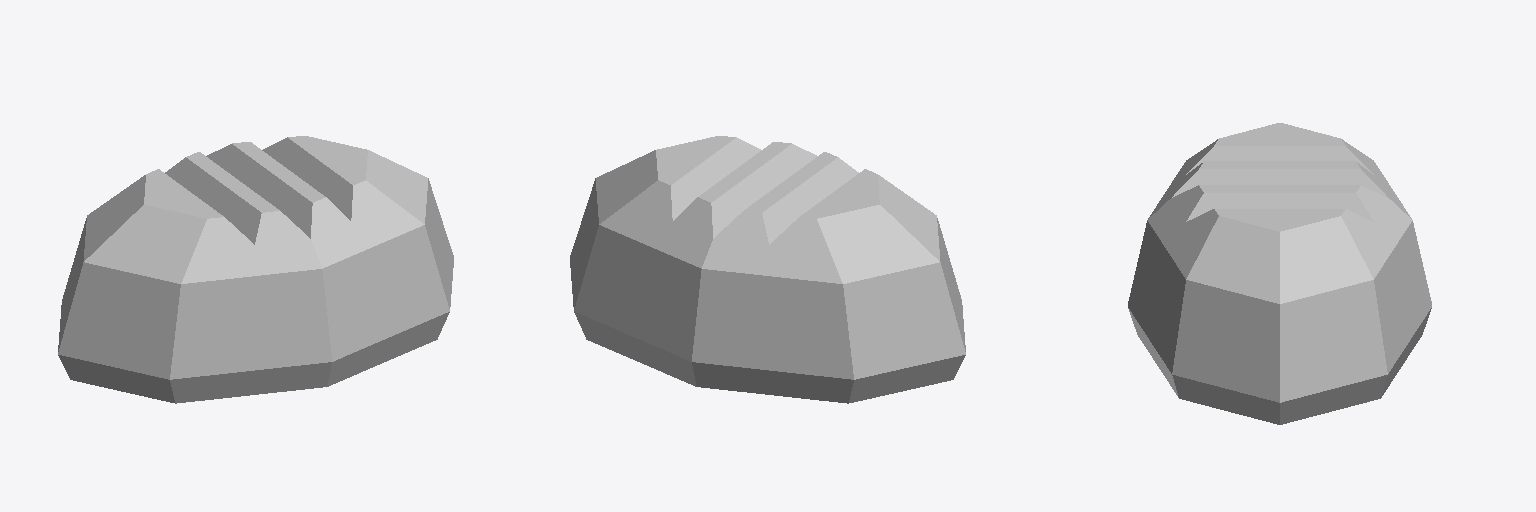
The model's file is loafRound.obj.
3 views of the same model, side by side, from view 1: azimuth 30°, elevation 25°; view 2: azimuth 150°, elevation 25°; view 3: azimuth 270°, elevation 25° (orthographic).
Visible parts, largest first — view 1: loafRound; view 2: loafRound; view 3: loafRound.
Boxes of the visible parts, x1,y1,x2,y2 form: loafRound: [58, 136, 453, 403]; loafRound: [570, 136, 965, 403]; loafRound: [1128, 123, 1431, 424].
Bounding box in the file's own units: 0.7717 × 0.2932 × 0.5145.